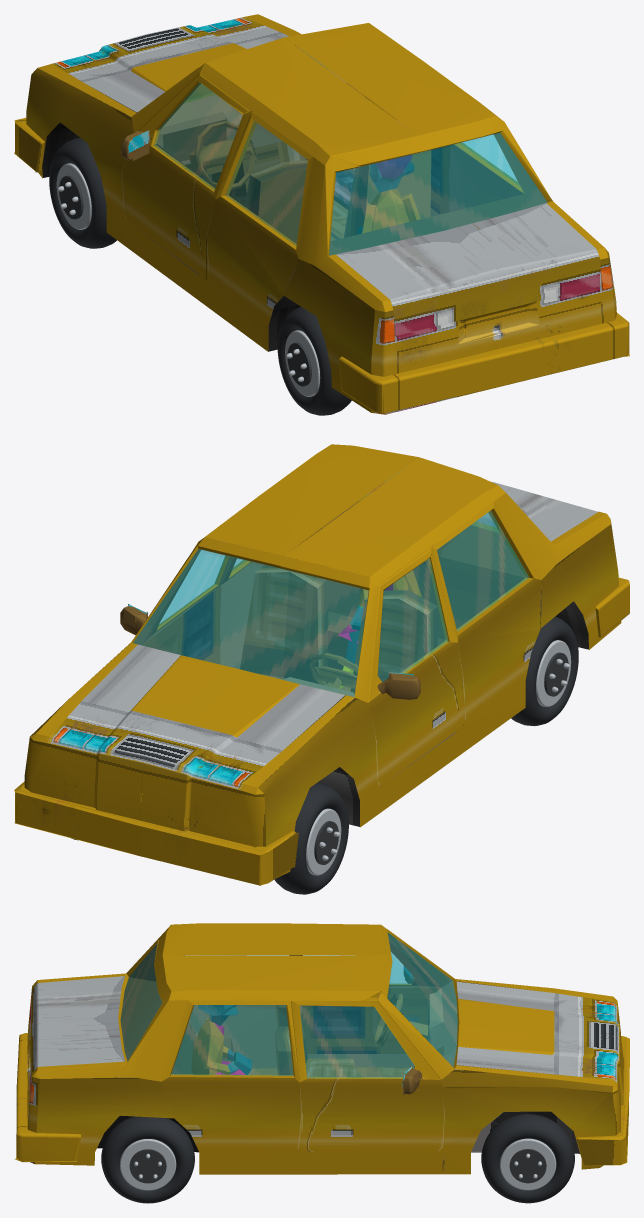
Rendered from car-skinn_v.glb.
3 renders of one model, top to bottom at view 1: azimuth 30°, elevation 25°; view 2: azimuth 150°, elevation 25°; view 3: azimuth 270°, elevation 25°, orthographic. The views are drawn at different scales.
Visible parts, largest first — view 1: skinn_vShape.009, skinn_vShape.003, skinn_vShape.008, skinn_vShape.002, TrunkRotShape.030, skinn_vShape.006, skinn_vShape.007, HoodRotShape.027, DoorDRotShape.104, DoorDRotShape.107, Rounded tire.154, Rounded tire.155 (+12 smaller); view 2: skinn_vShape.008, skinn_vShape.006, skinn_vShape.003, skinn_vShape.005, skinn_vShape.009, HoodRotShape.027, skinn_vShape.007, HoodRotShape.028, DoorDRotShape.104, DoorDRotShape.107, DoorPRotShape.114, Rounded tire.154 (+13 smaller); view 3: skinn_vShape.003, skinn_vShape.009, skinn_vShape.008, skinn_vShape.006, skinn_vShape.007, DoorPRotShape.113, skinn_vShape.004, HoodRotShape.027, TrunkRotShape.030, DoorPRotShape.116, DoorDRotShape.105, HoodRotShape.028 (+14 smaller).
Boxes of the visible parts, <box> form: skinn_vShape.009: <box>200,23,504,172</box>; skinn_vShape.003: <box>26,68,435,412</box>; skinn_vShape.008: <box>184,57,547,255</box>; skinn_vShape.002: <box>338,254,629,414</box>; TrunkRotShape.030: <box>336,203,601,335</box>; skinn_vShape.006: <box>133,70,596,327</box>; skinn_vShape.007: <box>38,14,608,311</box>; HoodRotShape.027: <box>52,17,324,112</box>; DoorDRotShape.104: <box>122,145,215,273</box>; DoorDRotShape.107: <box>154,83,242,190</box>; Rounded tire.154: <box>49,138,116,248</box>; Rounded tire.155: <box>277,307,351,415</box>; skinn_vShape.008: <box>133,497,528,696</box>; skinn_vShape.006: <box>133,501,542,783</box>; skinn_vShape.003: <box>30,524,621,877</box>; skinn_vShape.005: <box>14,737,298,885</box>; skinn_vShape.009: <box>205,444,505,584</box>; HoodRotShape.027: <box>48,644,344,790</box>; skinn_vShape.007: <box>30,493,610,794</box>; HoodRotShape.028: <box>130,655,299,737</box>; DoorDRotShape.104: <box>368,642,463,787</box>; DoorDRotShape.107: <box>378,558,448,681</box>; DoorPRotShape.114: <box>120,550,233,664</box>; Rounded tire.154: <box>274,783,348,894</box>; skinn_vShape.003: <box>35,979,615,1174</box>; skinn_vShape.009: <box>154,923,385,1002</box>; skinn_vShape.008: <box>121,933,457,1075</box>; skinn_vShape.006: <box>37,933,457,1159</box>; skinn_vShape.007: <box>32,925,619,1166</box>; DoorPRotShape.113: <box>299,1078,444,1152</box>; skinn_vShape.004: <box>161,1077,301,1152</box>; HoodRotShape.027: <box>456,981,619,1083</box>; TrunkRotShape.030: <box>30,976,124,1090</box>; DoorPRotShape.116: <box>300,1006,414,1077</box>; DoorDRotShape.105: <box>295,941,440,1053</box>; HoodRotShape.028: <box>458,999,554,1054</box>.
Bounding box in the file's own units: 2.34 × 1.83 × 5.05.
Materials: 14 (11 with a texture image).
